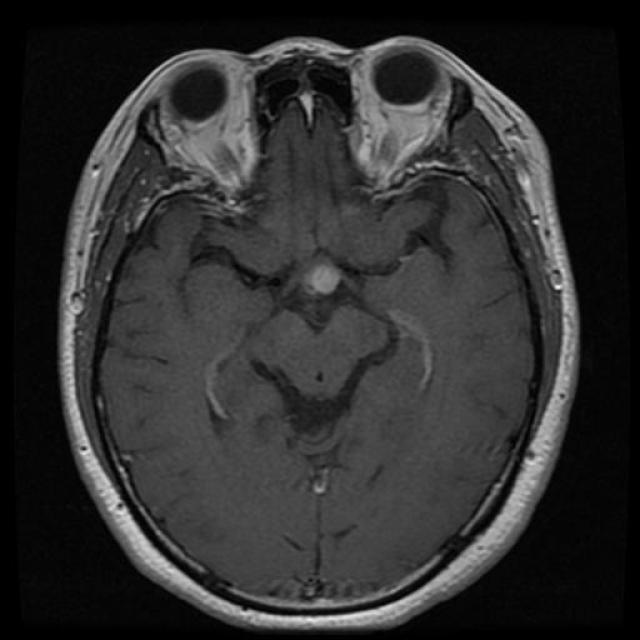pituitary: (299, 236, 356, 319)
